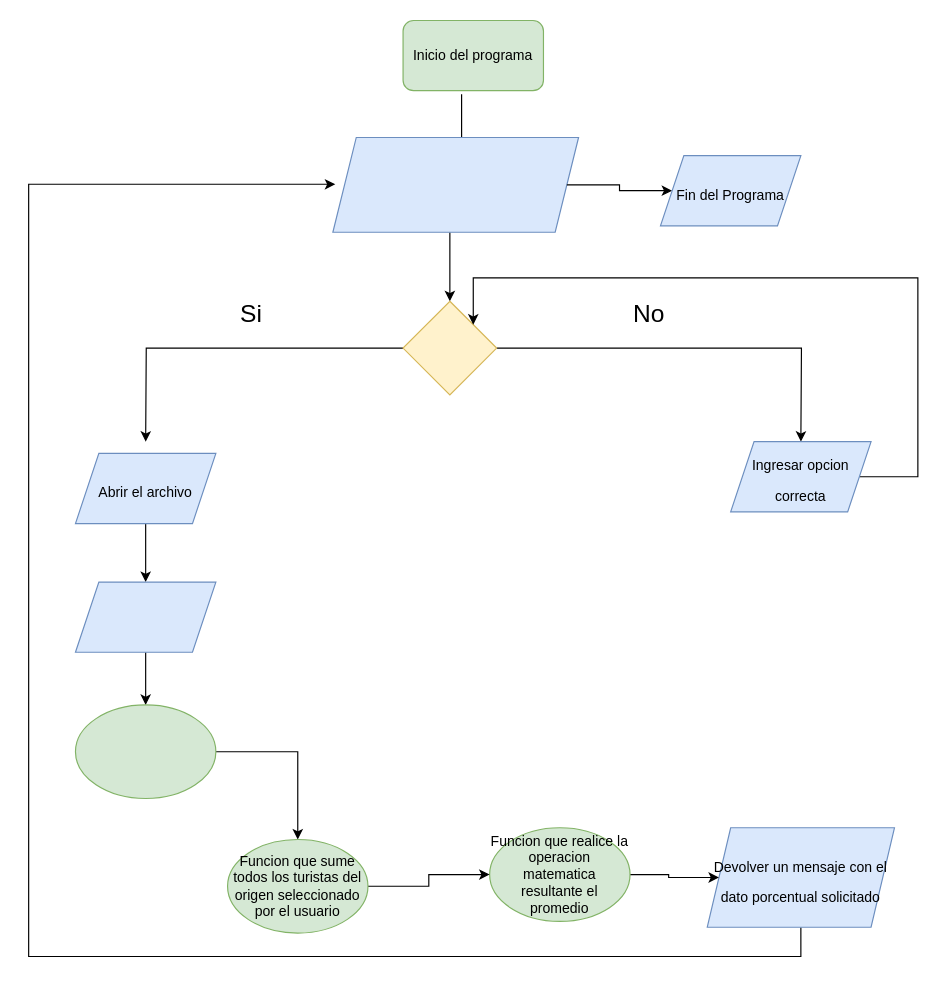
Some shapes in this 948 by 986 pixel diagram are drawn without their labels. Here are the shapes that lost their labels. From the top down, the centre of each, then its label:
At [455,184]: "Consultar datos que desee recibir (asignar opciones) o fin programa".
At [449,347]: "Validacion de datos".
At [145,616]: "Buscar los datos requeridos".
At [145,751]: "Fucion que coincida los daos seleccionados y sume la canidad de turistas".
